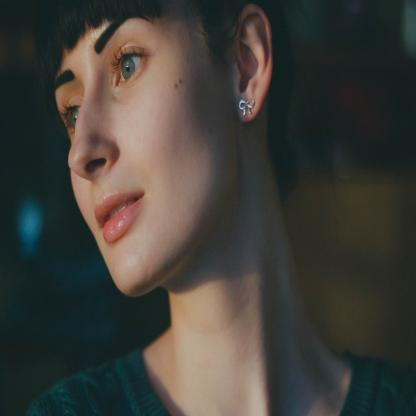Eye: (107, 36, 157, 98), (50, 81, 90, 143)
Mouth: (91, 184, 150, 246)
Nose: (66, 85, 123, 183)
